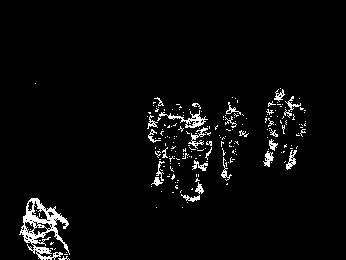person: (185, 100, 213, 204), (217, 95, 249, 183), (144, 95, 170, 188), (165, 105, 190, 189), (283, 95, 308, 176), (262, 86, 286, 167)
